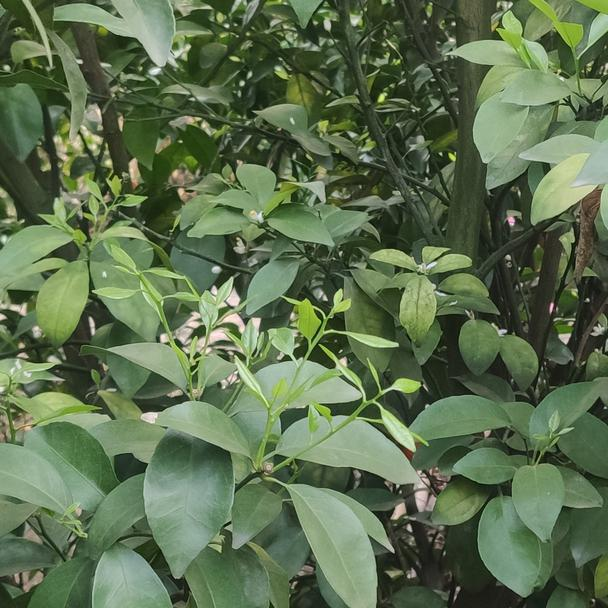shoot: (259, 287, 387, 413), (297, 352, 424, 458), (121, 252, 200, 375), (191, 281, 251, 358)
